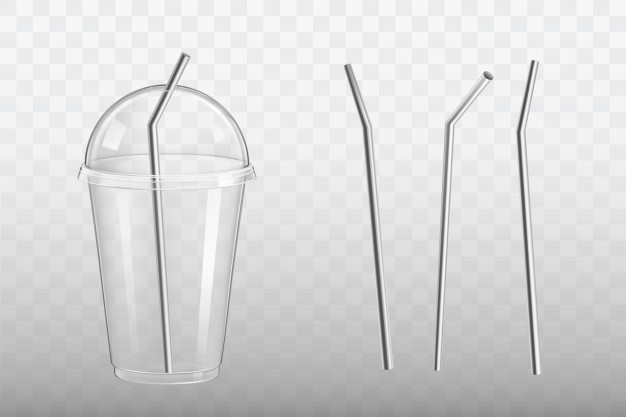plastic_glass: (71, 75, 263, 397)
